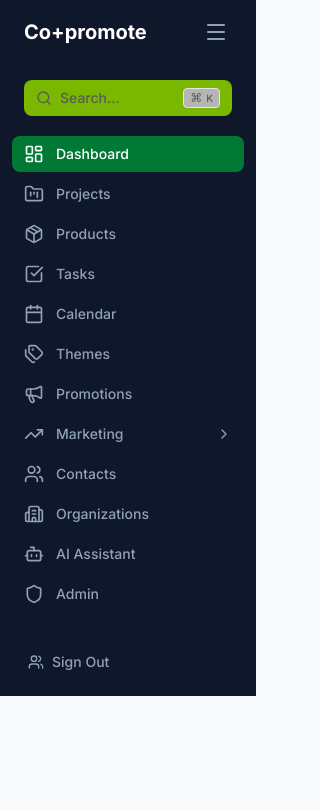
it: Sidebar Component › should open Marketing group when clicked
Click the button "Marketing" at x=128, y=434, box [12,416,244,452]
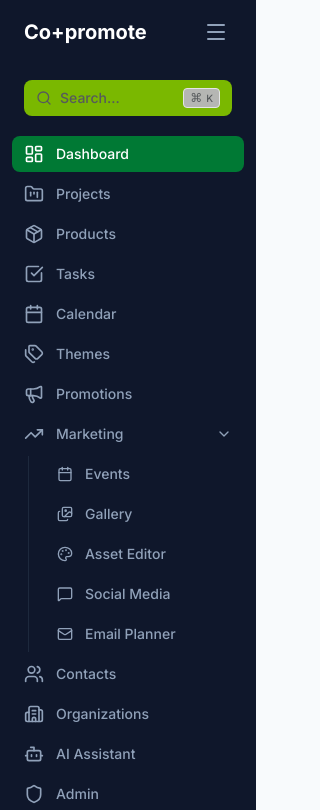
Now the text "Social Media" is shown, box [85,584,170,604]
Now the text "Events" is shown, box [85,464,130,484]
Now the text "Gallery" is shown, box [85,504,132,524]
